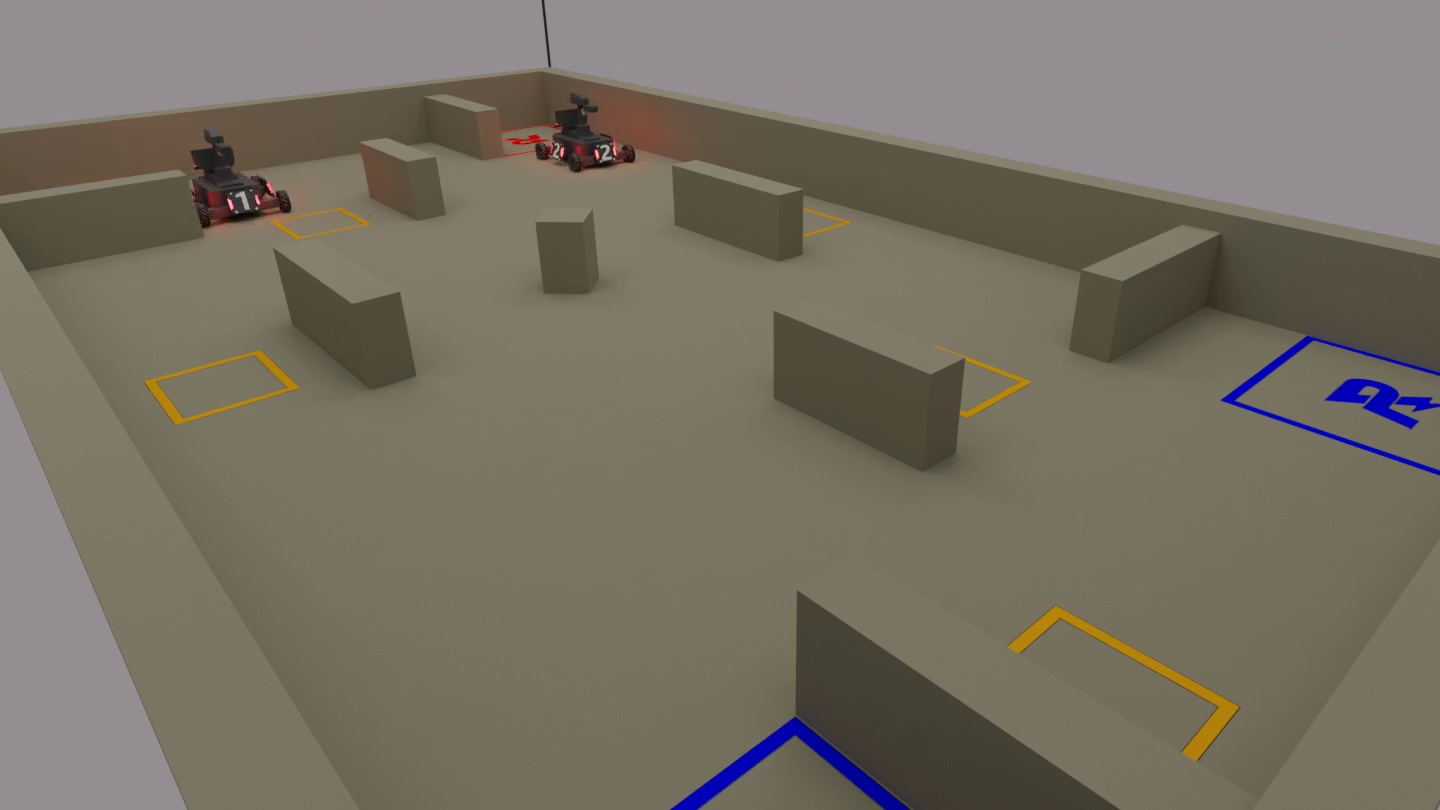Bot 1: (167, 122, 305, 235)
Bot 2: (532, 86, 649, 191)
